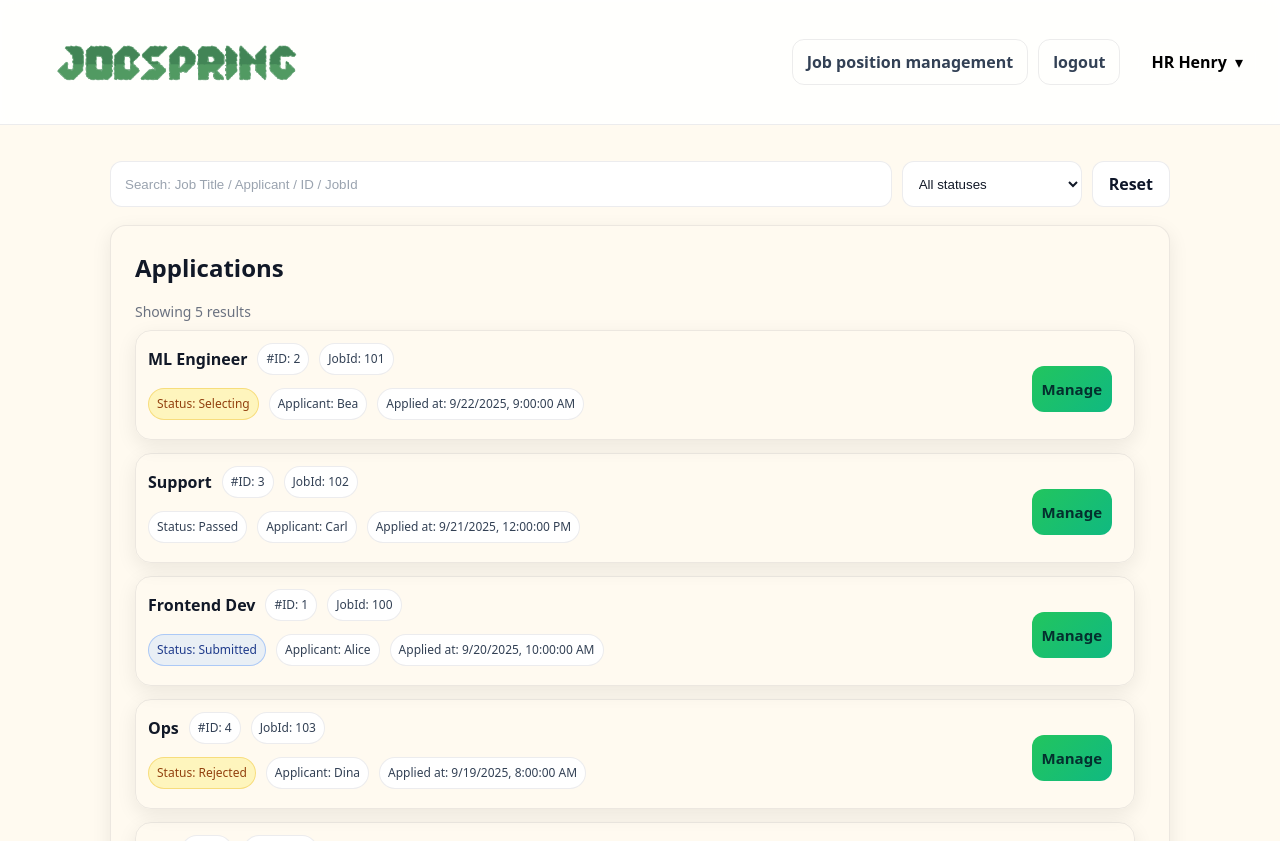
Test: status filter works and Reset restores all
The image size is (1280, 841).
Check: the text "Showing 5 results" is shown, box [135,302,251,321]
Select "Submitted" in the dropdown named "Status filter" at (992, 184), box [902,161,1082,207]
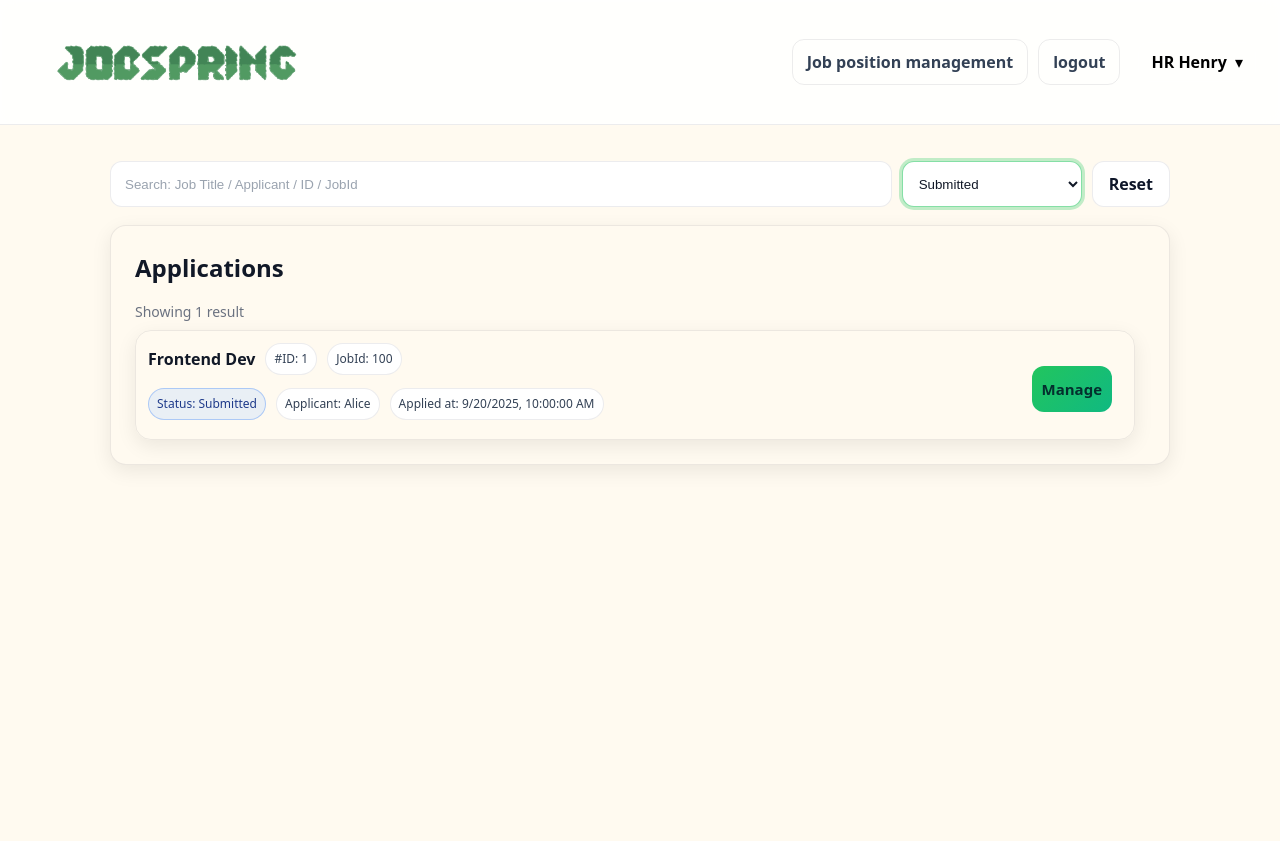
Check: the text "Frontend Dev" is shown, box [148,347,255,371]
Check: the text "Showing 1 result" is shown, box [135,302,244,321]
Select "Selecting" in the dropdown named "Status filter" at (992, 184), box [902,161,1082,207]
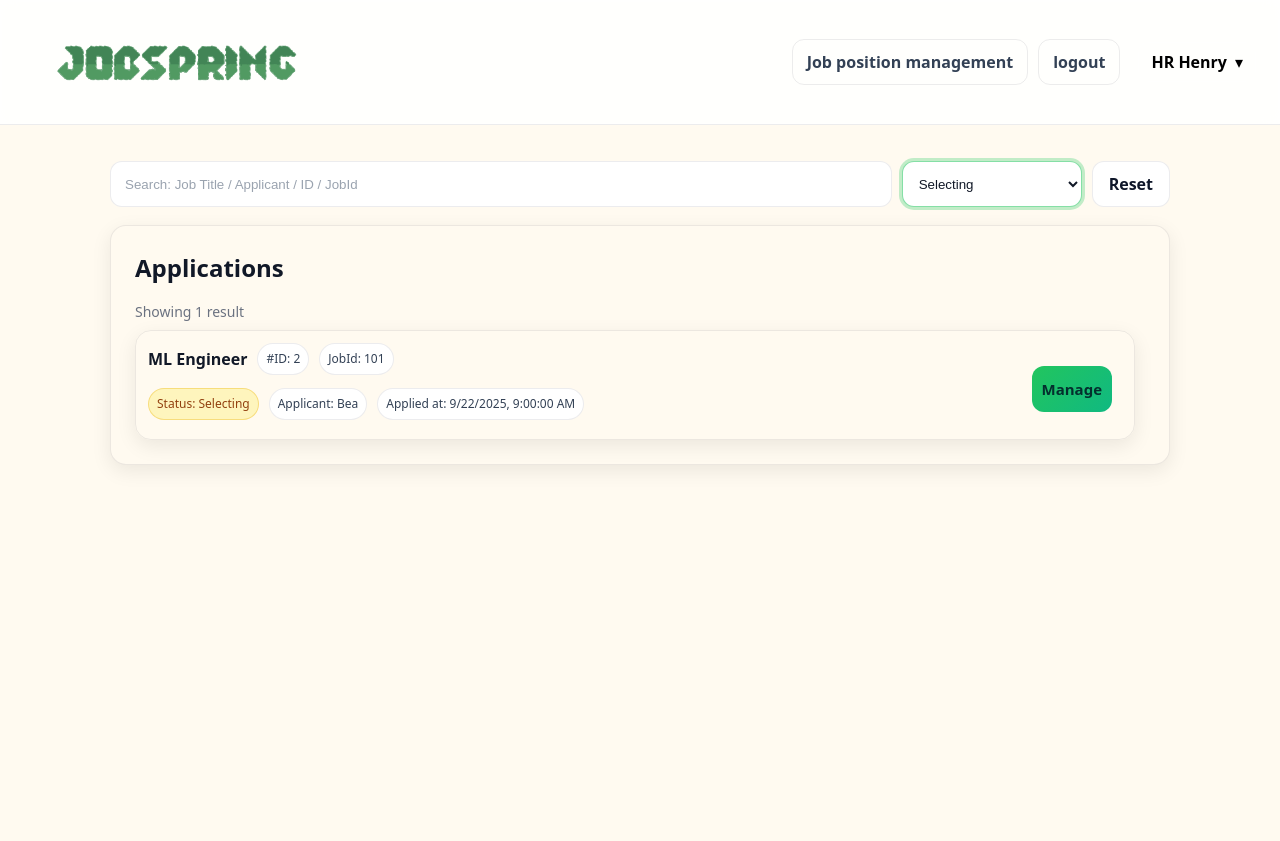
Check: the text "Showing 1 result" is shown, box [135,302,244,321]
Check: the text "ML Engineer" is shown, box [148,347,248,371]
Select "Passed" in the dropdown named "Status filter" at (992, 184), box [902,161,1082,207]
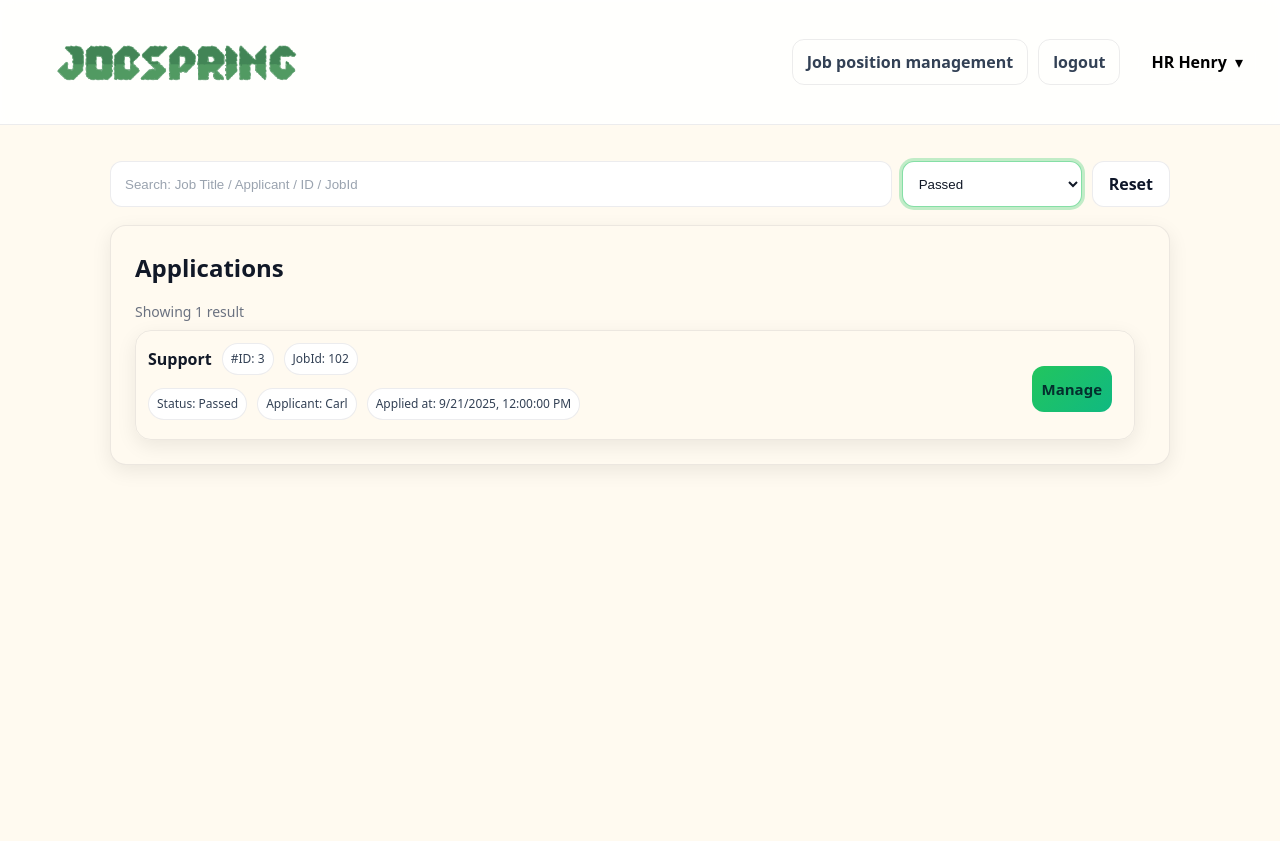
Check: the text "Showing 1 result" is shown, box [135,302,244,321]
Check: the text "Support" is shown, box [148,347,212,371]
Select "Rejected" in the dropdown named "Status filter" at (992, 184), box [902,161,1082,207]
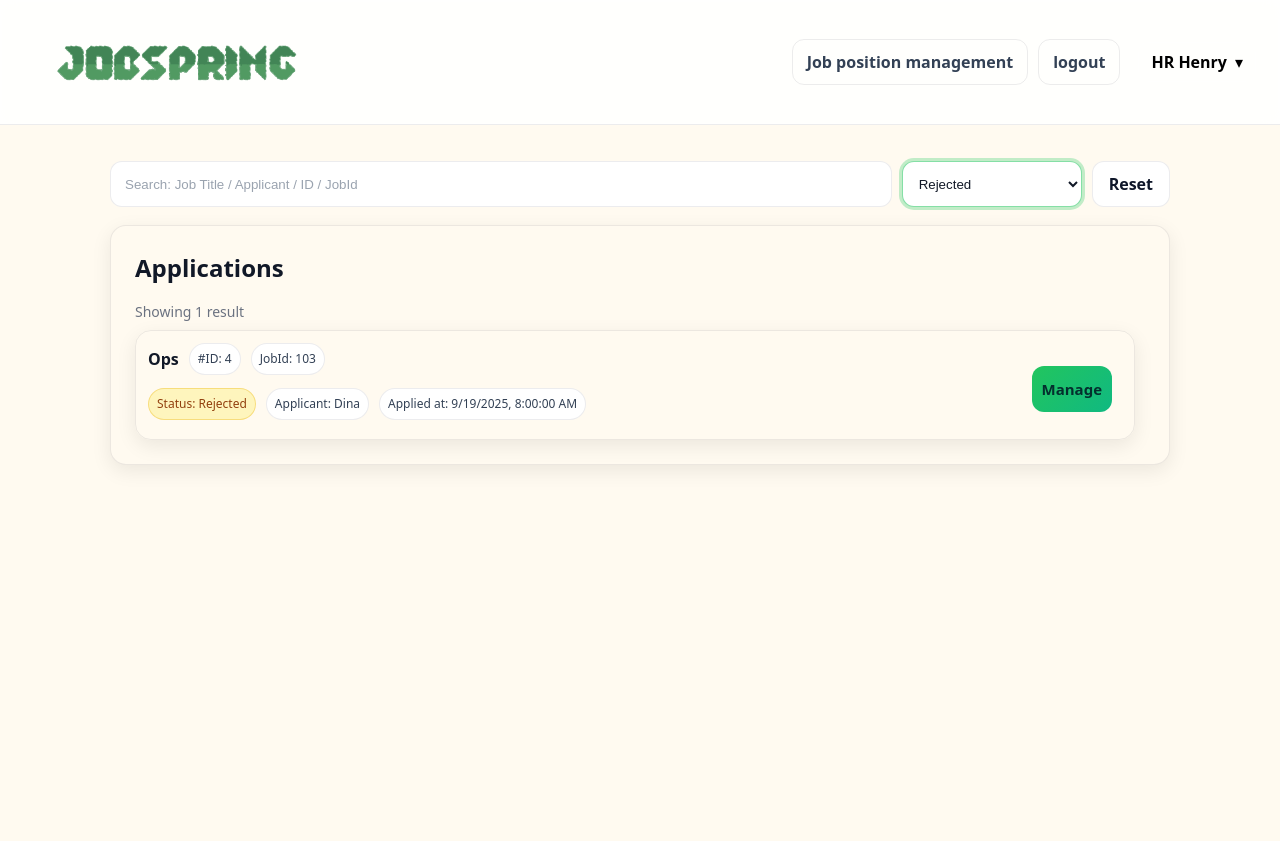
Check: the text "Showing 1 result" is shown, box [135,302,244,321]
Check: the text "Ops" is shown, box [148,347,179,371]
Select "Invalid" in the dropdown named "Status filter" at (992, 184), box [902,161,1082,207]
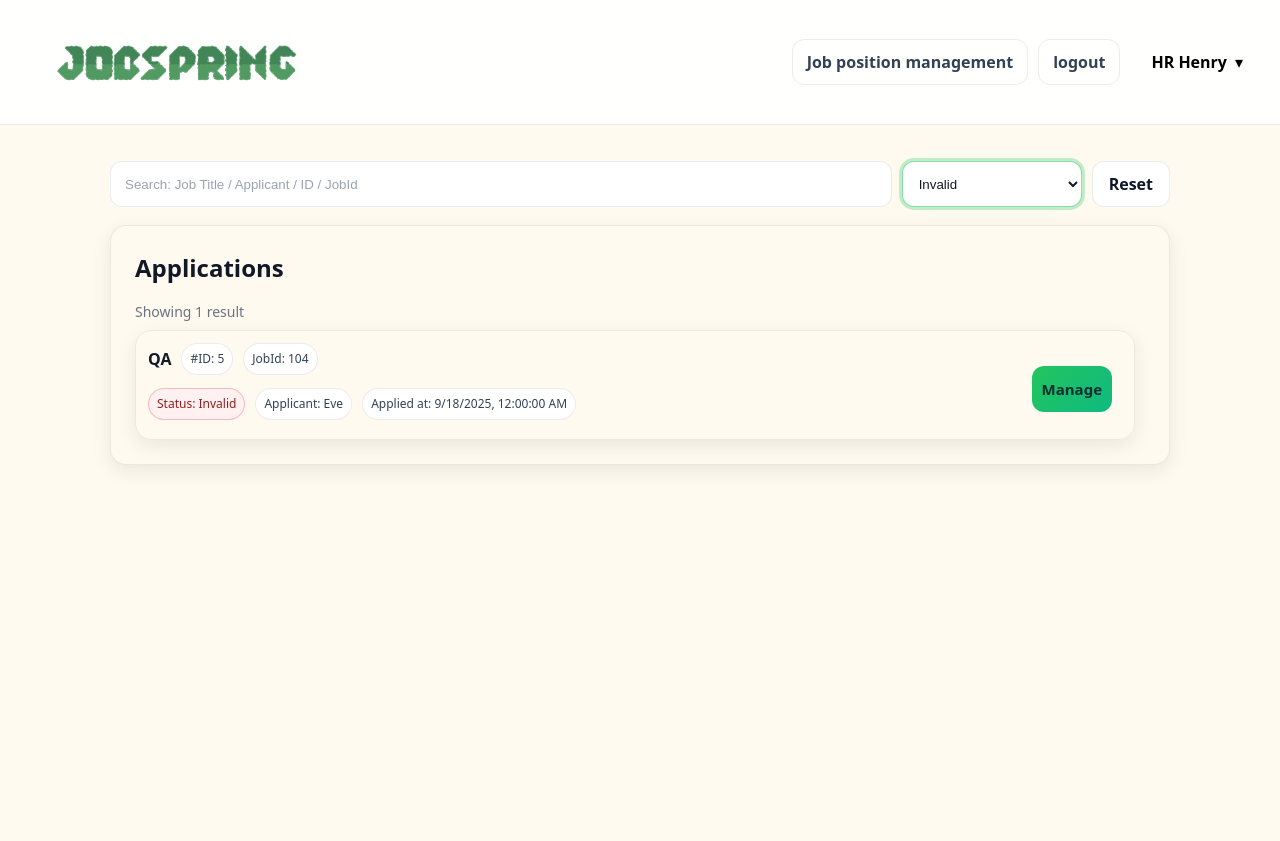
Check: the text "Showing 1 result" is shown, box [135,302,244,321]
Check: the text "QA" is shown, box [148,347,172,371]
Click the button "Reset" at (1131, 184), box [1092,161,1170,207]
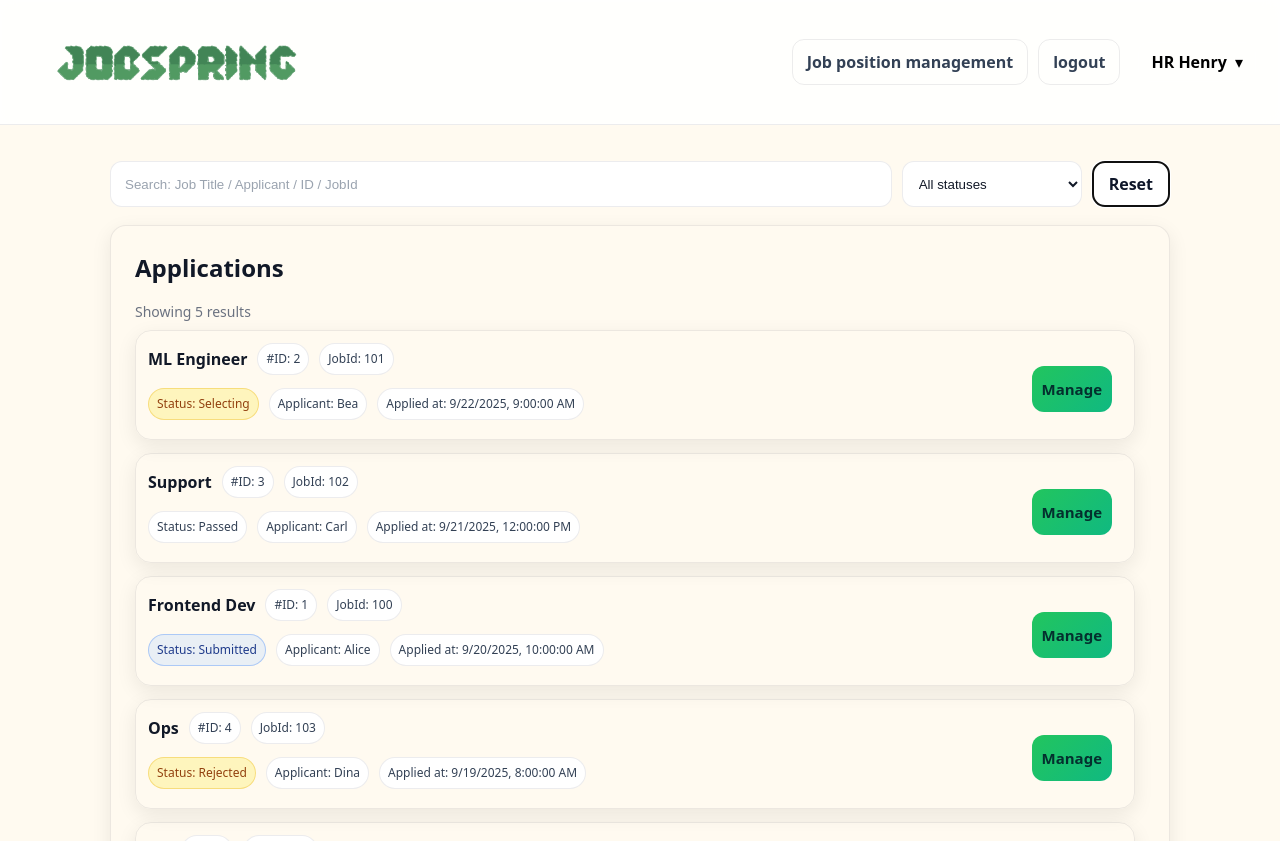
Check: the text "Showing 5 results" is shown, box [135,302,251,321]
